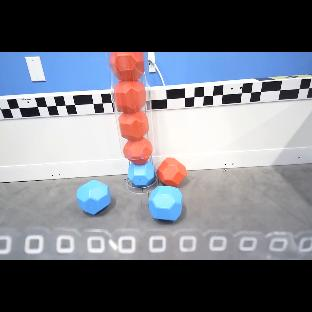Loader: (106, 52, 158, 193)
V5_BLUE: (148, 186, 183, 221), (148, 186, 182, 221), (77, 180, 111, 215), (77, 180, 110, 215), (77, 180, 110, 214), (127, 162, 158, 189), (128, 162, 158, 189), (128, 162, 157, 187)
V5_RED: (148, 186, 183, 221), (77, 180, 111, 215), (157, 157, 187, 187), (128, 162, 156, 188)
redloader: (110, 52, 153, 165)
